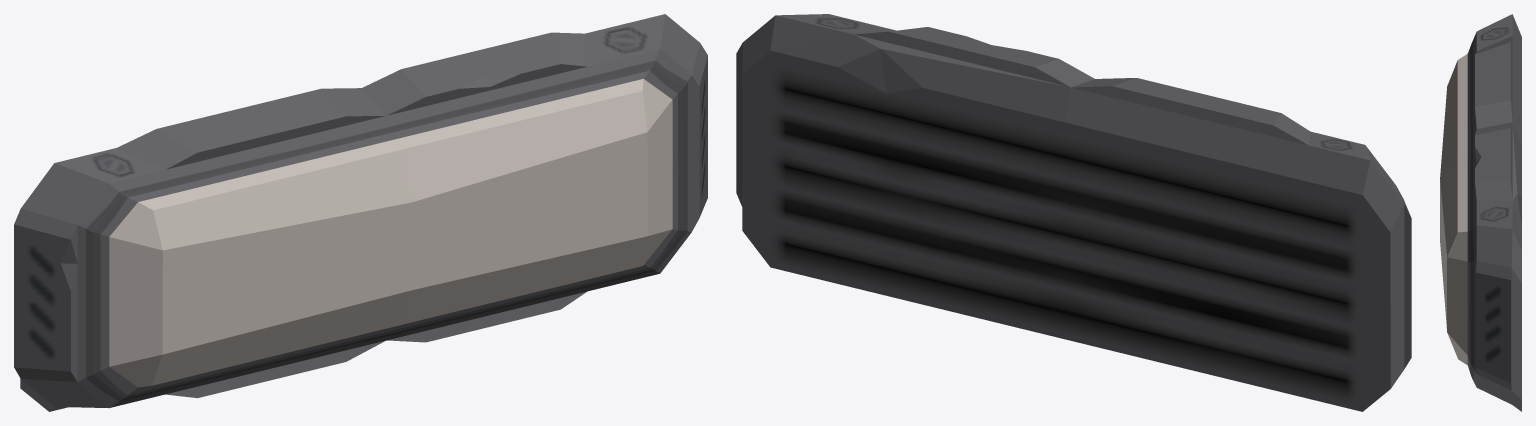
File: SM_Prop_Street_Light_05.fbx
3 views of the same model, side by side, from view 1: azimuth 30°, elevation 25°; view 2: azimuth 150°, elevation 25°; view 3: azimuth 270°, elevation 25° (orthographic). The views are drawn at different scales.
Parts seen in each view (by area): view 1: SM_Prop_Street_Light_05; view 2: SM_Prop_Street_Light_05; view 3: SM_Prop_Street_Light_05.
Part boxes in pixels (bbox=[...]): SM_Prop_Street_Light_05: bbox=[14, 14, 707, 411]; SM_Prop_Street_Light_05: bbox=[736, 14, 1411, 411]; SM_Prop_Street_Light_05: bbox=[1440, 14, 1521, 411].
Size of the model in its own units: 98.55 by 35.91 by 13.95.
